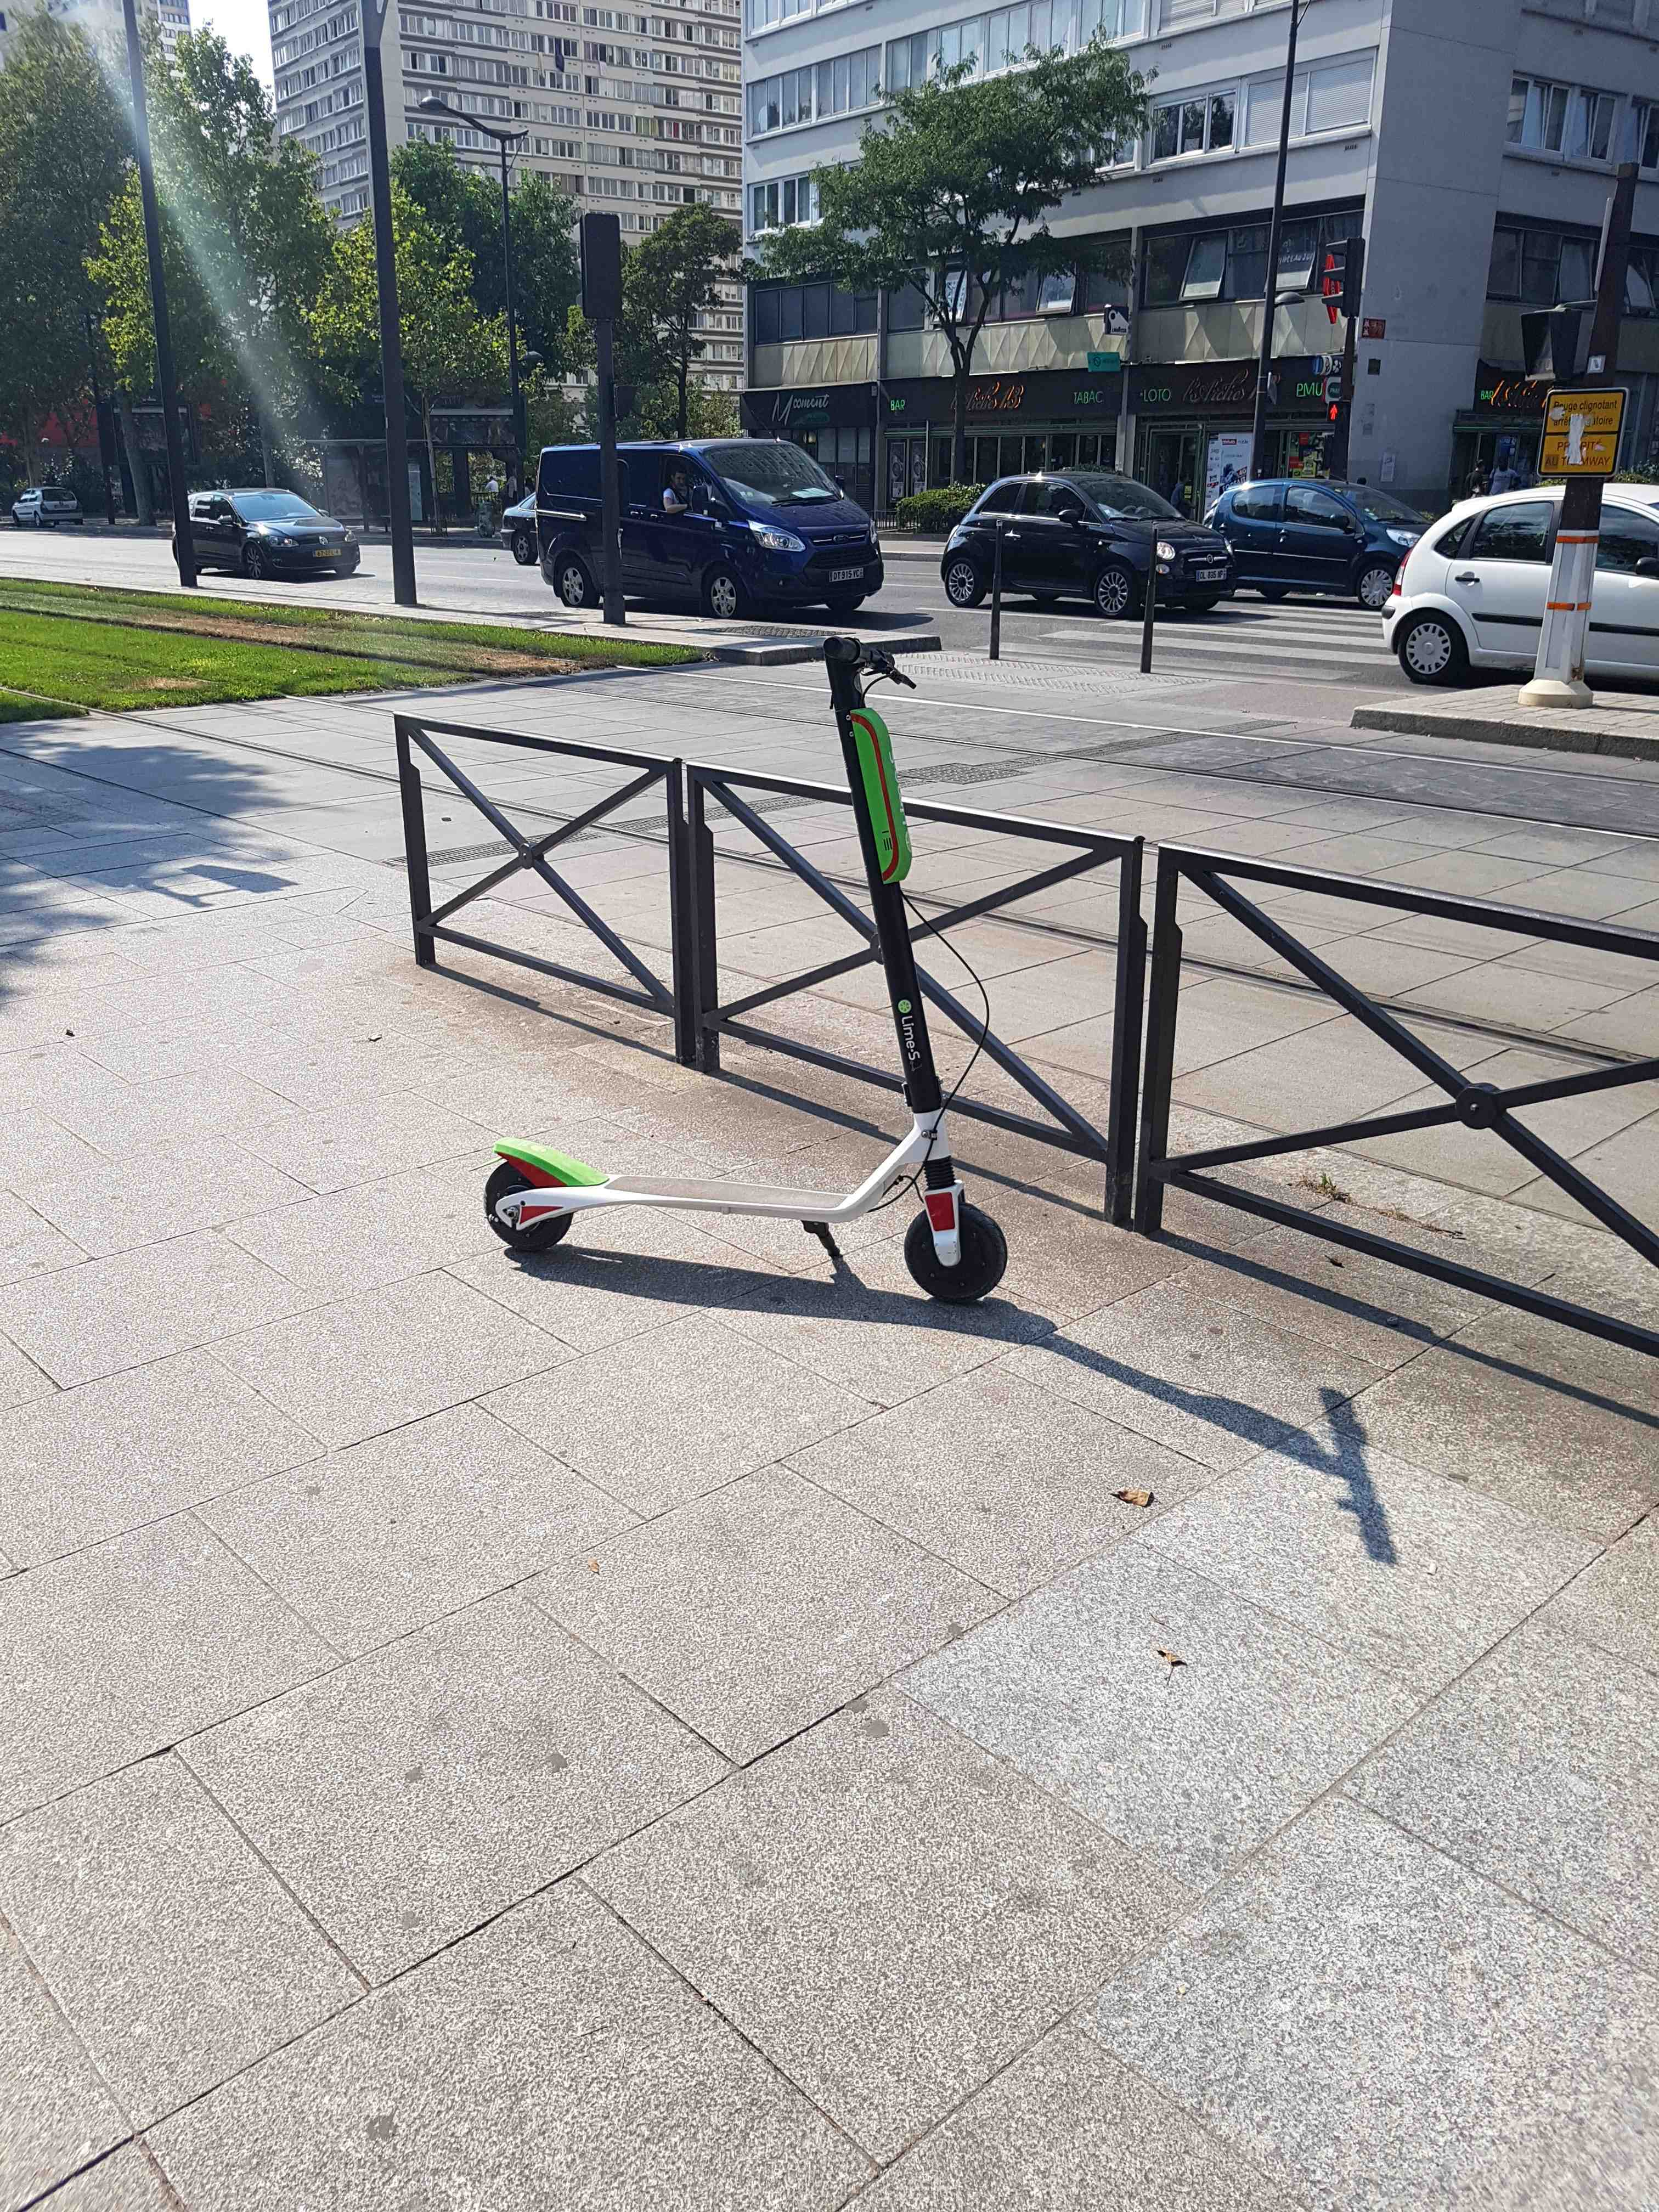scooter: (444, 599, 1021, 1315)
